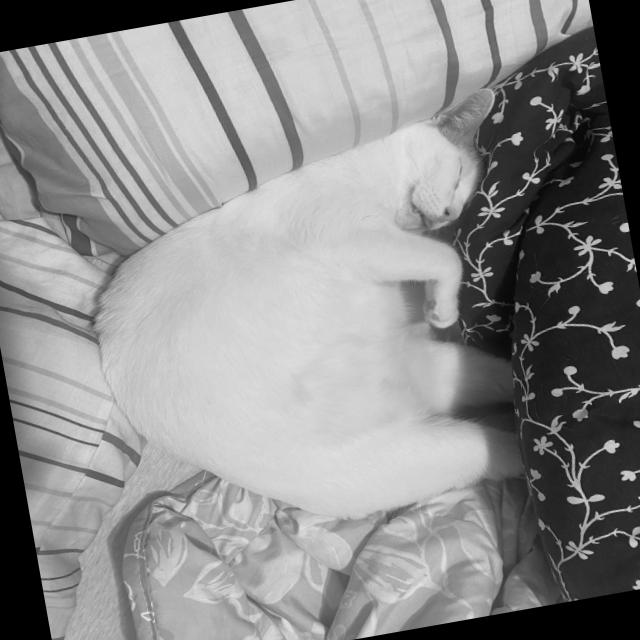cat1: (59, 78, 566, 561)
